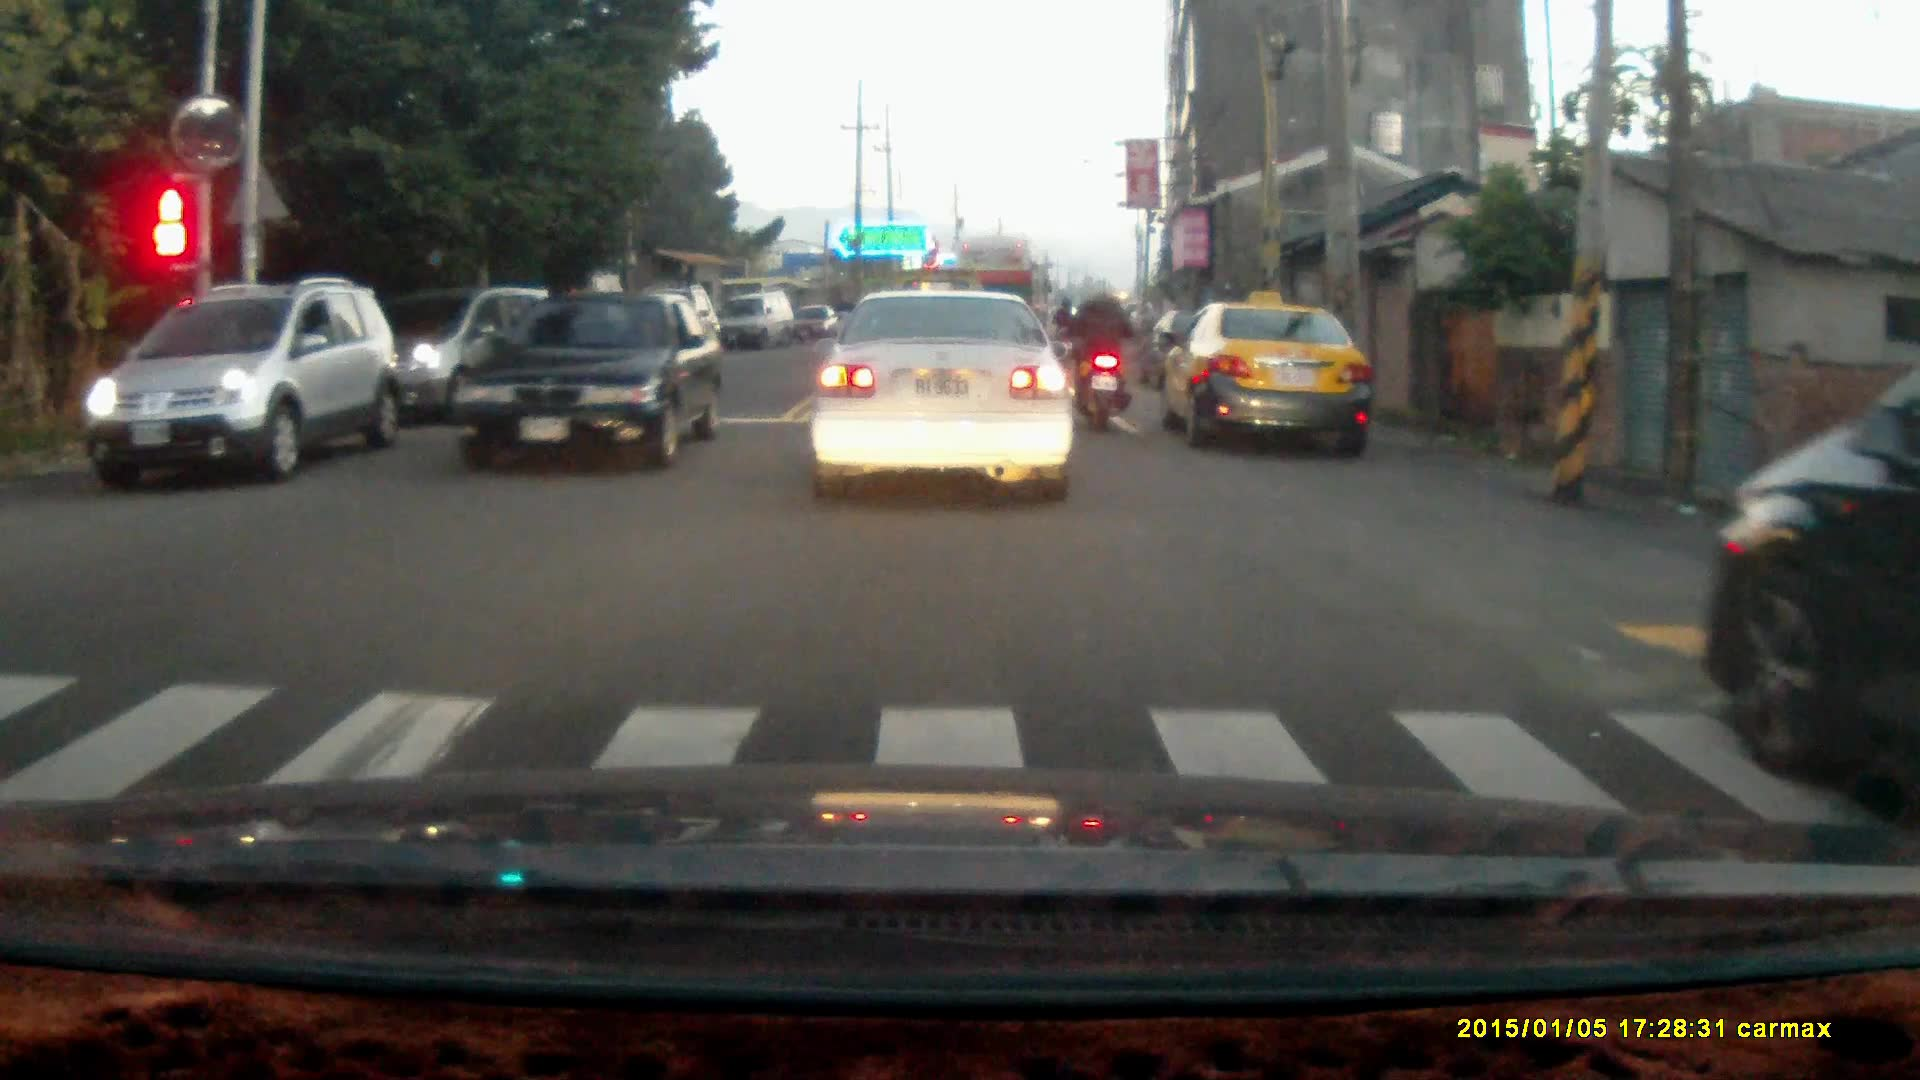rider: (1069, 274, 1139, 430)
vehicle: (1703, 369, 1920, 800), (84, 279, 393, 490), (810, 286, 1083, 502), (454, 286, 725, 473), (1165, 301, 1373, 453), (722, 288, 794, 355)
